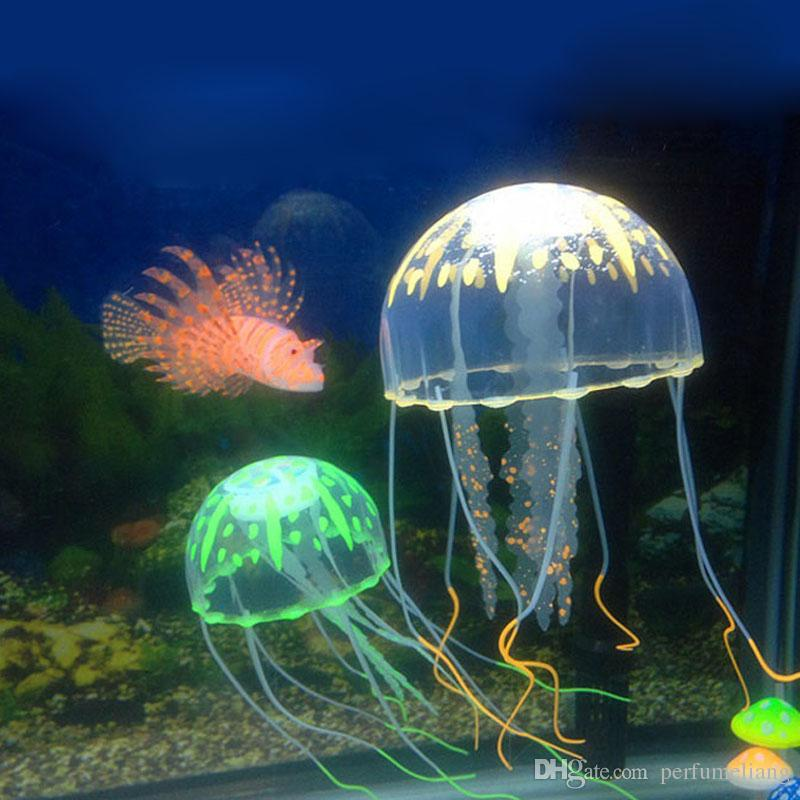jellyfish: (376, 168, 761, 672), (164, 456, 450, 737)
